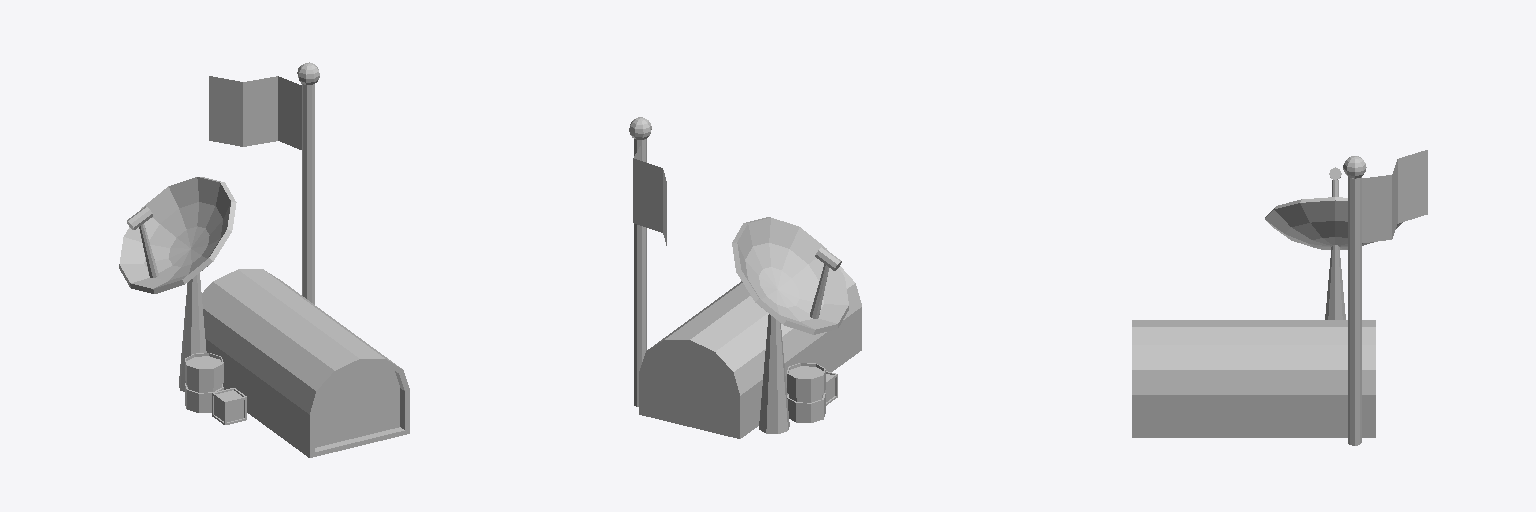
The model's file is RadarStation.obj.
3 renders of one model, left to right at view 1: azimuth 30°, elevation 25°; view 2: azimuth 150°, elevation 25°; view 3: azimuth 270°, elevation 25°, orthographic.
Visible parts, largest first — view 1: headusOBJexport; view 2: headusOBJexport; view 3: headusOBJexport.
Boxes of the visible parts, <box> form: headusOBJexport: <box>119,62,409,457</box>; headusOBJexport: <box>629,117,861,438</box>; headusOBJexport: <box>1132,150,1427,445</box>.
Bounding box in the file's own units: 34.24 × 46.7 × 43.75.